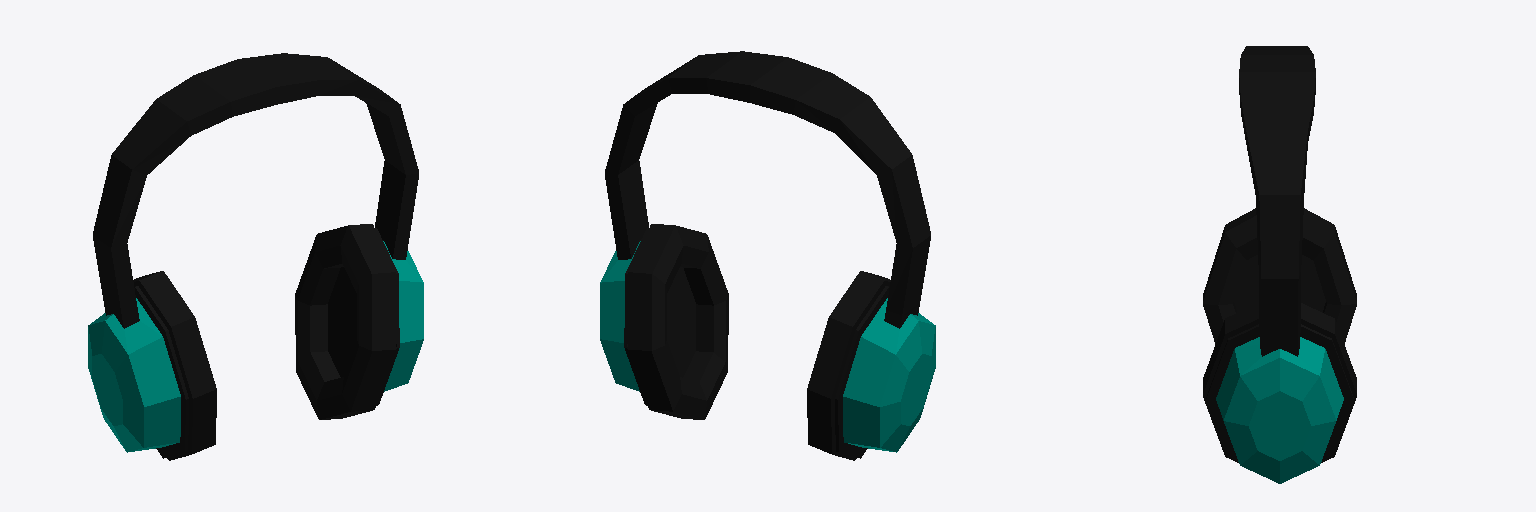
Rendered from Headphones_01.obj.
3 views of the same model, side by side, from view 1: azimuth 30°, elevation 25°; view 2: azimuth 150°, elevation 25°; view 3: azimuth 270°, elevation 25° (orthographic).
Visible parts, largest first — view 1: Headphones_01_Circle; view 2: Headphones_01_Circle; view 3: Headphones_01_Circle.
Boxes of the visible parts, box(x1,y1,x2,y2) form: Headphones_01_Circle: box(88, 53, 423, 460); Headphones_01_Circle: box(600, 51, 935, 460); Headphones_01_Circle: box(1203, 46, 1356, 483).
Bounding box in the file's own units: 8.71 × 9.92 × 3.79.